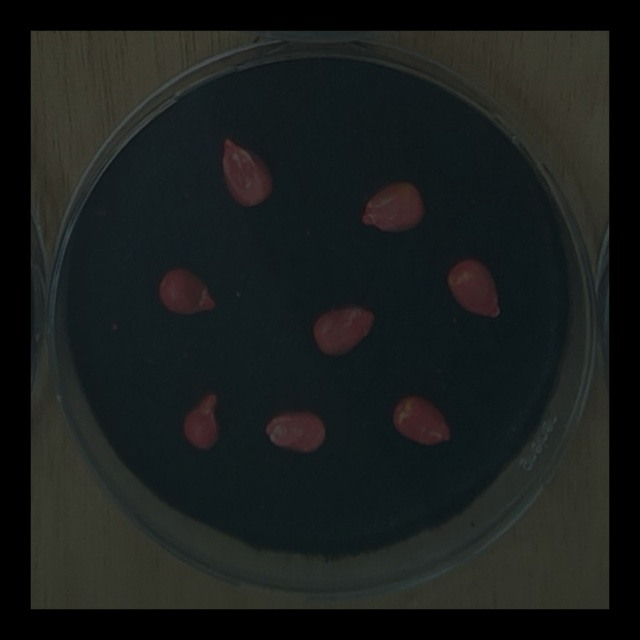Zea mays: (215, 132, 279, 214), (306, 298, 383, 365), (354, 174, 432, 239), (441, 253, 507, 327), (385, 389, 459, 454), (153, 263, 224, 323), (260, 404, 331, 461), (178, 387, 226, 459)
